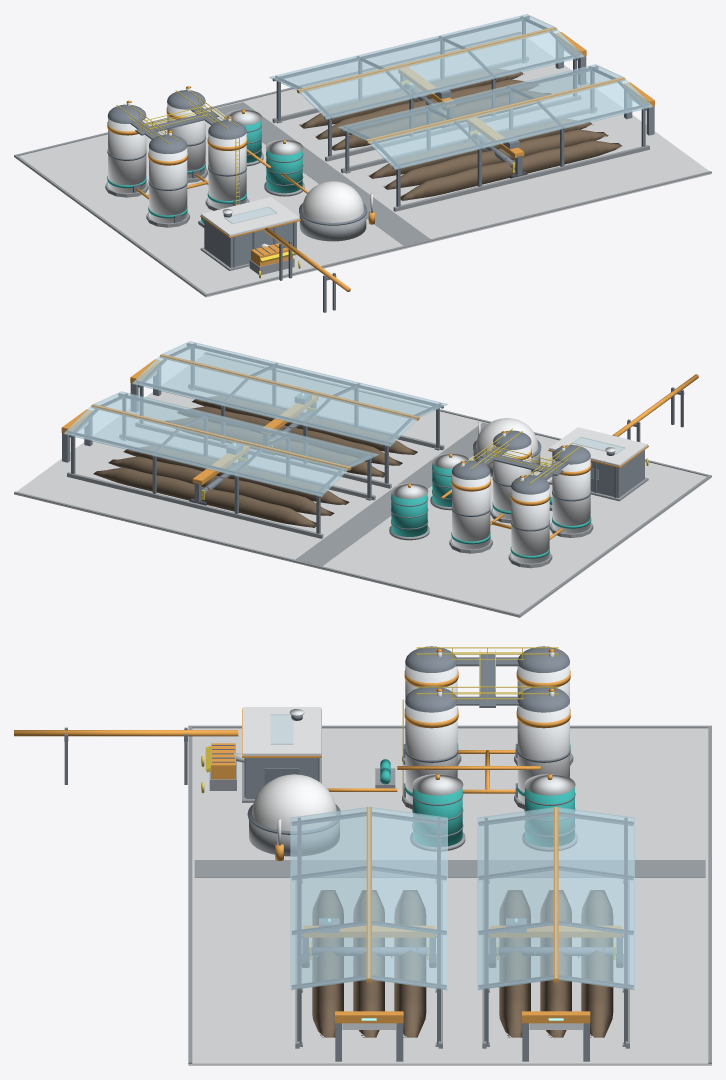
File: j_manure_resource.glb
3 views of the same model, one above another, from view 1: azimuth 30°, elevation 25°; view 2: azimuth 150°, elevation 25°; view 3: azimuth 270°, elevation 25° (orthographic). The views are drawn at different scales.
Visible parts, largest first — view 1: J_Pad, J_Hall_RoofS_1, J_Hall_RoofS_0, J_Hall_RoofN_1, J_Hall_RoofN_0, J_Windrow_1_0, J_Service_Aisle, J_Windrow_1_1, J_Tower_Body_1, J_Tower_Body_3, J_Tower_Body_2, J_Sep_Roof (+33 smaller); view 2: J_Pad, J_Hall_RoofN_0, J_Hall_RoofN_1, J_Hall_RoofS_1, J_Hall_RoofS_0, J_Windrow_0_2, J_Service_Aisle, J_Windrow_0_1, J_Tower_Body_2, J_Tower_Body_4, J_Tower_Body_1, J_Windrow_1_2 (+31 smaller); view 3: J_Pad, J_Hall_RoofS_0, J_Hall_RoofS_1, J_Hall_RoofN_0, J_Hall_RoofN_1, J_Service_Aisle, J_Sep_Roof, J_Biogas_Dome, J_Windrow_1_2, J_Windrow_0_2, J_Windrow_0_0, J_Windrow_1_0 (+35 smaller).
Boxes of the visible parts, x1,y1,x2,y2 form: J_Pad: [14, 34, 711, 297]; J_Hall_RoofS_1: [366, 77, 652, 169]; J_Hall_RoofS_0: [298, 27, 584, 119]; J_Hall_RoofN_1: [337, 64, 624, 140]; J_Hall_RoofN_0: [269, 14, 555, 90]; J_Windrow_1_0: [400, 140, 622, 200]; J_Service_Aisle: [216, 102, 430, 245]; J_Windrow_1_1: [383, 129, 608, 189]; J_Tower_Body_1: [149, 147, 187, 223]; J_Tower_Body_3: [208, 133, 246, 208]; J_Tower_Body_2: [108, 117, 146, 193]; J_Sep_Roof: [201, 197, 299, 236]; J_Pad: [14, 354, 711, 617]; J_Hall_RoofN_0: [64, 404, 349, 496]; J_Hall_RoofN_1: [132, 354, 418, 446]; J_Hall_RoofS_1: [160, 341, 447, 417]; J_Hall_RoofS_0: [92, 391, 378, 467]; J_Windrow_0_2: [93, 467, 316, 527]; J_Service_Aisle: [296, 422, 487, 565]; J_Windrow_0_1: [108, 456, 334, 515]; J_Tower_Body_2: [511, 488, 549, 563]; J_Tower_Body_4: [452, 473, 490, 549]; J_Tower_Body_1: [552, 458, 590, 533]; J_Windrow_1_2: [165, 417, 384, 477]; J_Pad: [188, 728, 711, 1065]; J_Hall_RoofS_0: [477, 807, 557, 990]; J_Hall_RoofS_1: [290, 807, 370, 990]; J_Hall_RoofN_0: [555, 806, 634, 990]; J_Hall_RoofN_1: [368, 806, 447, 990]; J_Service_Aisle: [194, 860, 705, 877]; J_Sep_Roof: [242, 707, 321, 755]; J_Biogas_Dome: [252, 774, 336, 830]; J_Windrow_1_2: [394, 890, 426, 1037]; J_Windrow_0_2: [581, 890, 613, 1037]; J_Windrow_0_0: [499, 890, 530, 1037]; J_Windrow_1_0: [312, 890, 343, 1037].
Bounding box in the file's own units: 64 × 10.35 × 56.
